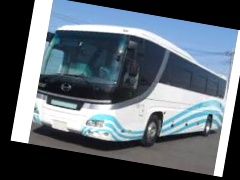bus: (29, 12, 235, 167)
